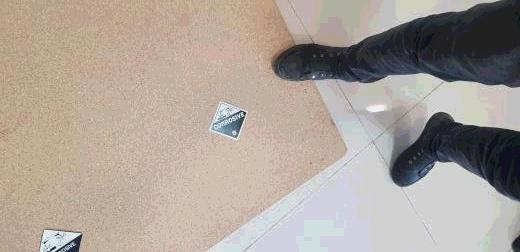corrosive: (210, 101, 247, 140), (40, 229, 87, 252)
